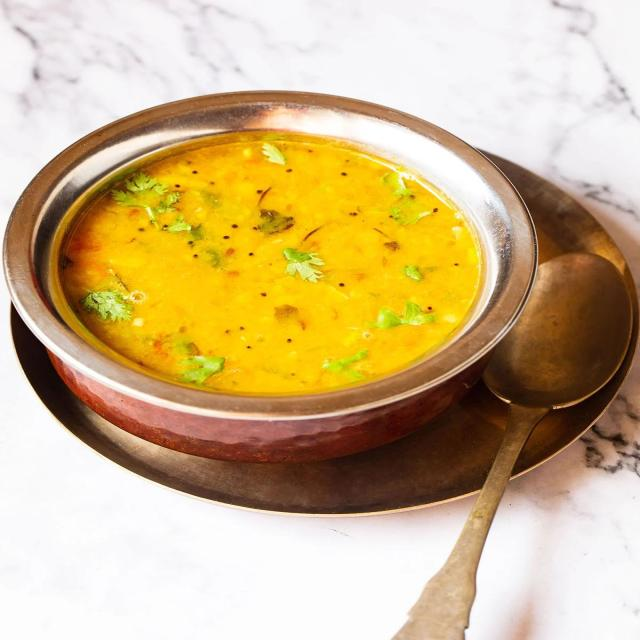dal: (61, 145, 487, 394)
